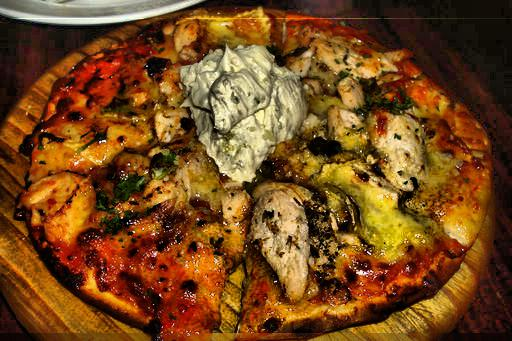pizza: (2, 16, 493, 337)
